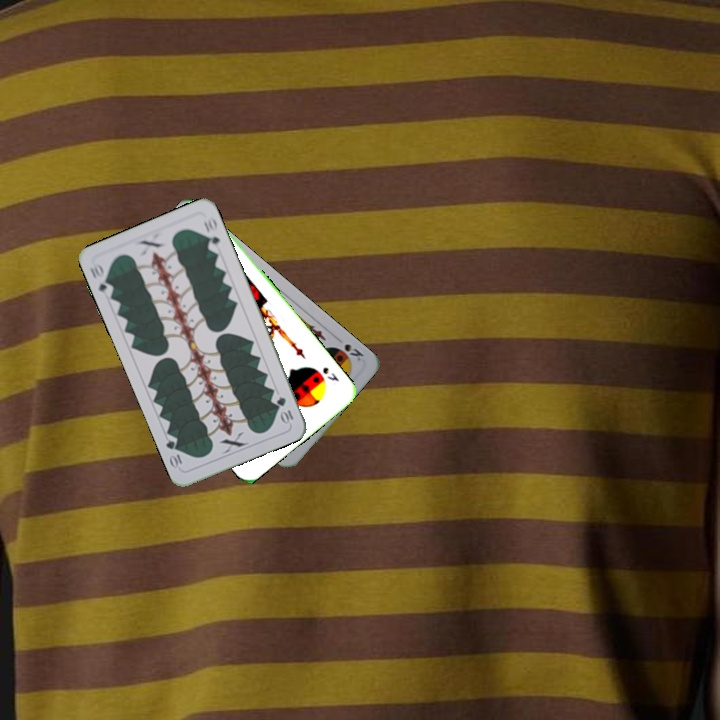G10: (86, 258, 116, 297), (272, 393, 296, 426)
SK: (340, 340, 366, 364), (318, 363, 342, 384)
